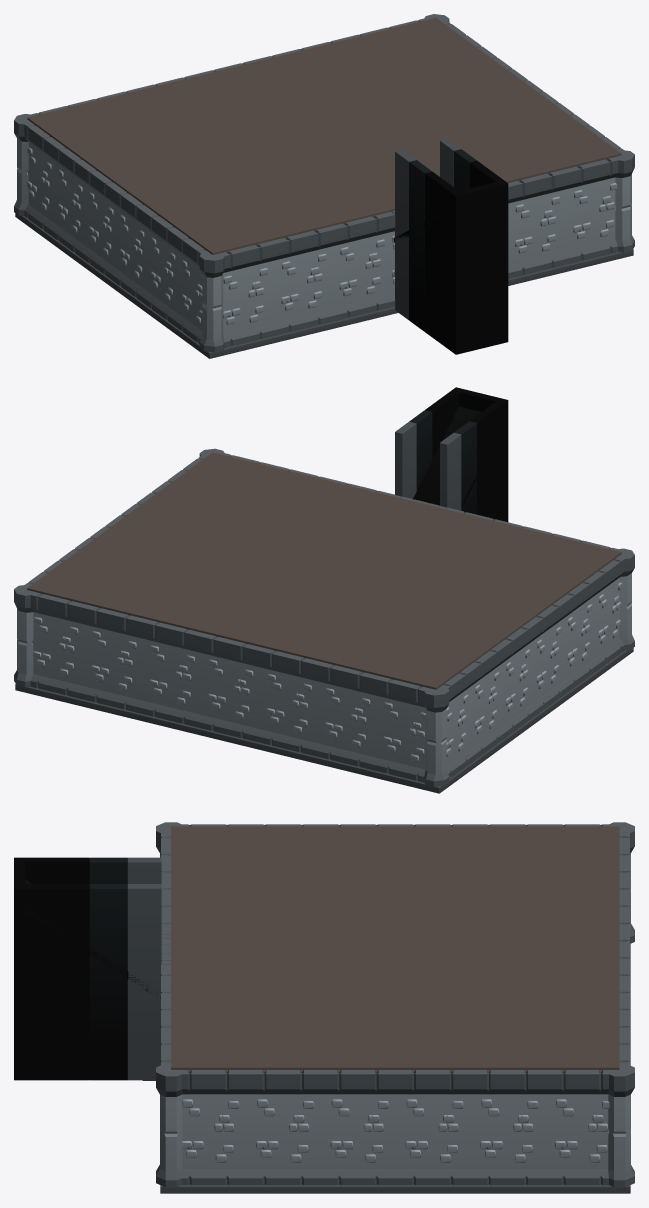
File: crypt_room.glb
3 views of the same model, one above another, from view 1: azimuth 30°, elevation 25°; view 2: azimuth 150°, elevation 25°; view 3: azimuth 270°, elevation 25° (orthographic). The views are drawn at different scales.
Visible parts, largest first — view 1: crypt_room; view 2: crypt_room; view 3: crypt_room.
Boxes of the visible parts, bbox=[...] form: crypt_room: bbox=[14, 14, 634, 358]; crypt_room: bbox=[14, 387, 634, 793]; crypt_room: bbox=[14, 822, 634, 1193].
Size of the model in its own units: 22.12 by 7.95 by 22.84.
9 materials, 9 textured.
